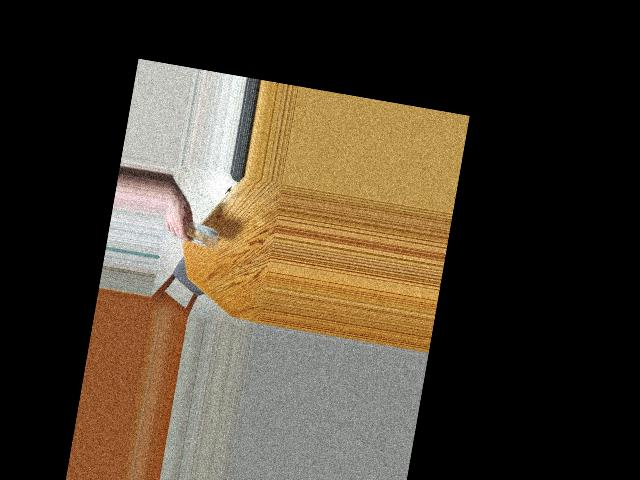cheese: (170, 202, 224, 257)
